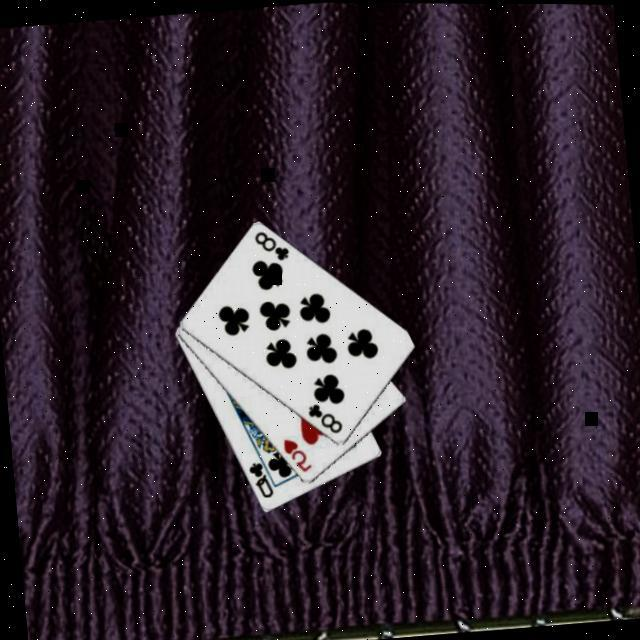5H: (278, 434, 312, 476)
8C: (302, 398, 343, 438), (250, 227, 290, 266)
QC: (242, 458, 274, 502)
